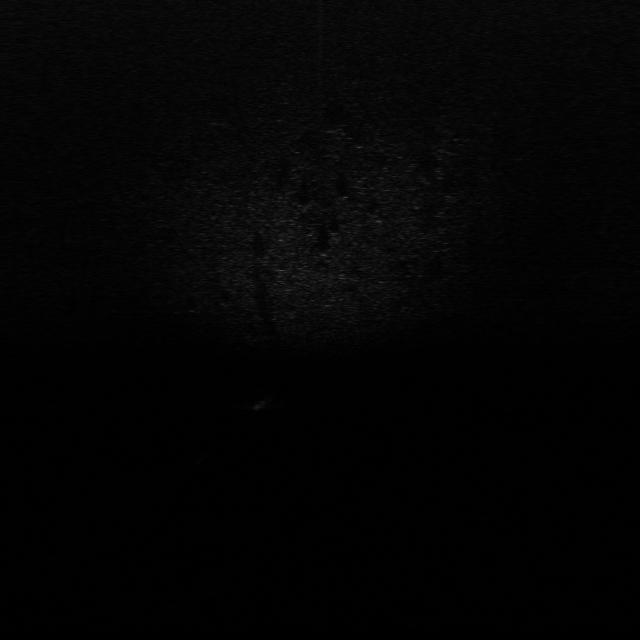human body: (244, 388, 280, 420)
